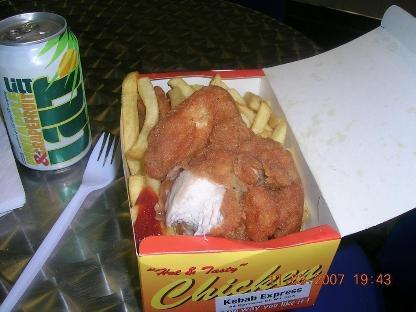Can: (1, 11, 93, 176)
